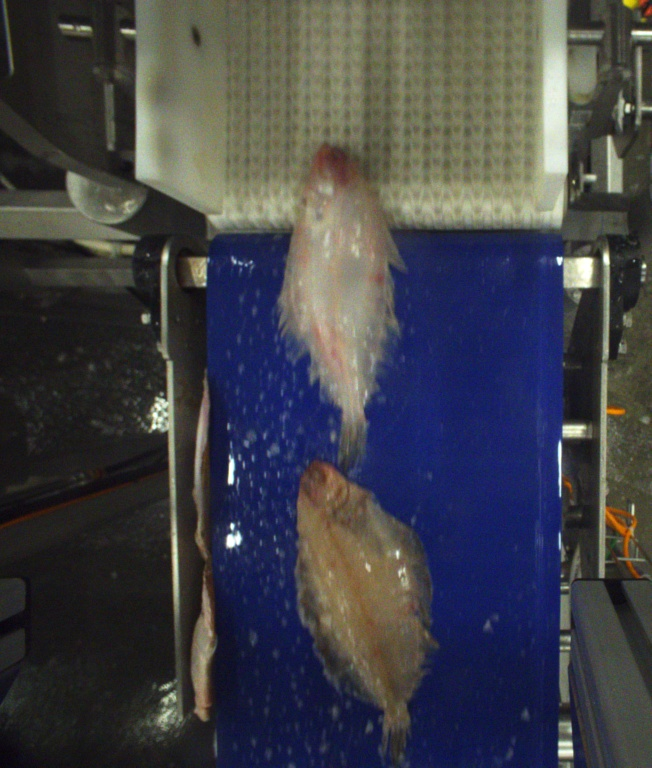WIT: (295, 461, 431, 762)
